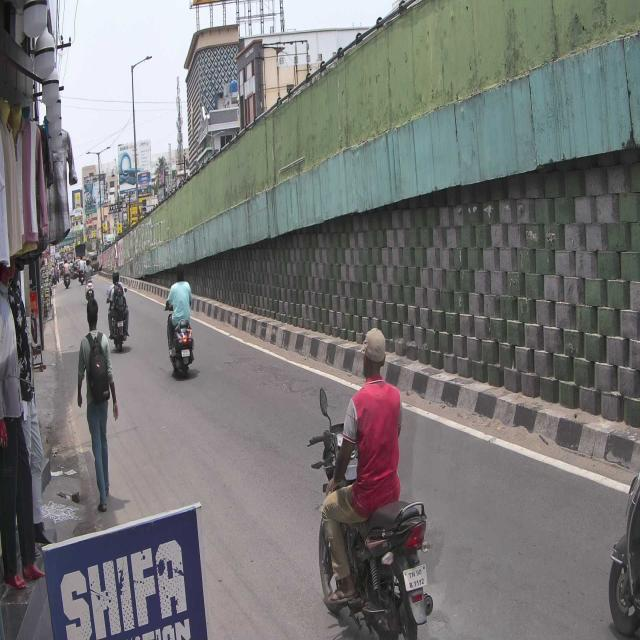single_rider: (307, 324, 433, 640)
